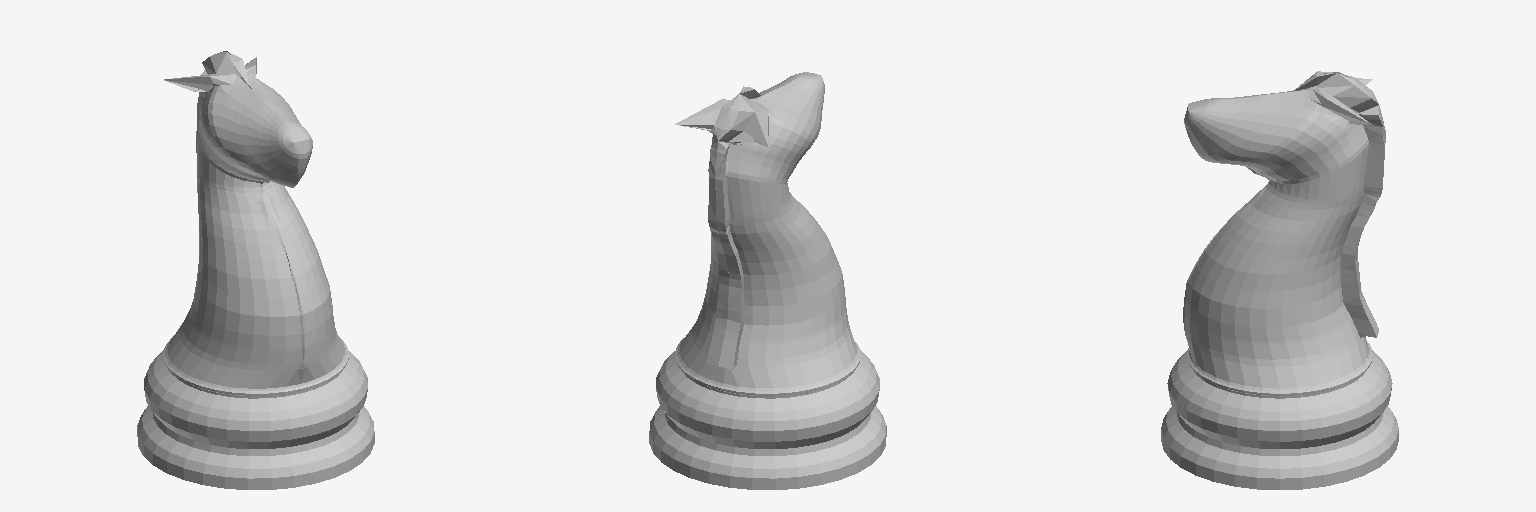
Rendered from knight2.obj.
3 renders of one model, left to right at view 1: azimuth 30°, elevation 25°; view 2: azimuth 150°, elevation 25°; view 3: azimuth 270°, elevation 25°, orthographic.
Visible parts, largest first — view 1: Dark_Knight_2; view 2: Dark_Knight_2; view 3: Dark_Knight_2.
Boxes of the visible parts, x1=… form: Dark_Knight_2: x1=137, y1=51, x2=374, y2=489; Dark_Knight_2: x1=649, y1=72, x2=886, y2=489; Dark_Knight_2: x1=1161, y1=71, x2=1398, y2=489.
Size of the model in its own units: 1.24 by 2.12 by 1.24.